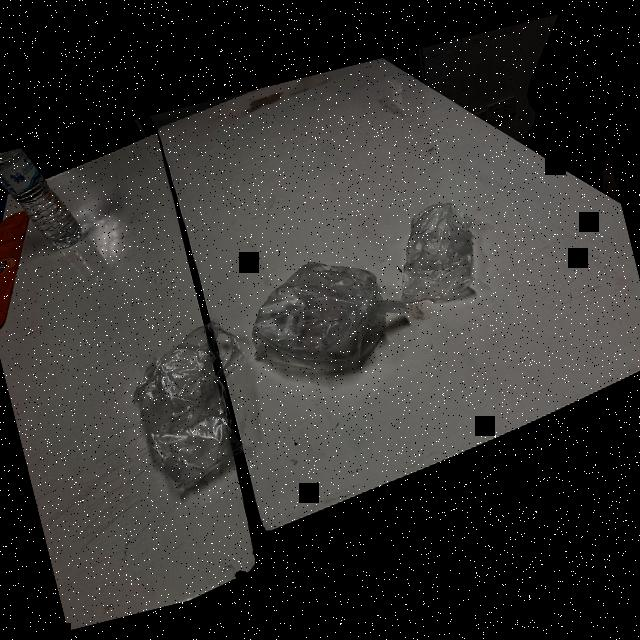plastic_bag: (218, 238, 418, 402), (107, 308, 264, 510)
scrap_plastic: (372, 186, 504, 312)
